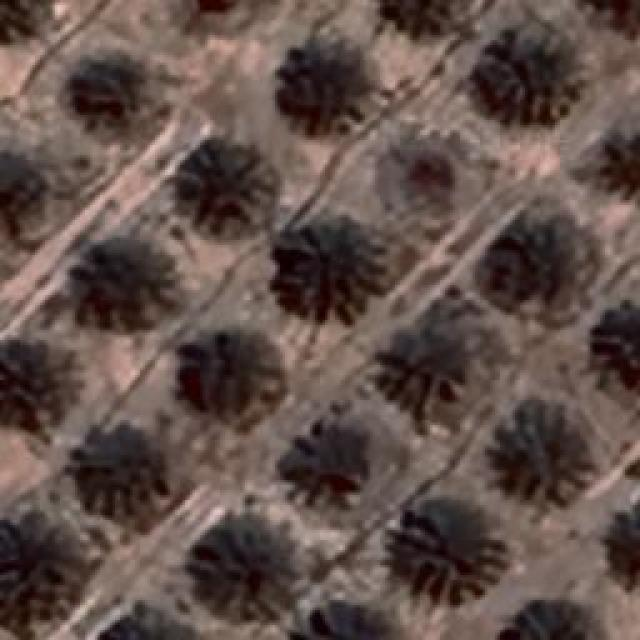PalmTree: (24, 21, 616, 346), (488, 400, 590, 510), (472, 25, 580, 125), (285, 220, 385, 320), (400, 512, 502, 606), (190, 522, 292, 612), (188, 328, 282, 422), (484, 208, 576, 304), (286, 425, 382, 513), (405, 315, 493, 410), (0, 518, 78, 622), (278, 39, 372, 122), (186, 140, 274, 228), (72, 432, 160, 520), (61, 37, 149, 125), (91, 250, 161, 332), (492, 595, 600, 635), (0, 344, 55, 418), (0, 148, 42, 242), (378, 0, 474, 35), (92, 605, 188, 640), (283, 605, 378, 640), (592, 132, 640, 196), (607, 501, 640, 592), (168, 0, 245, 32), (583, 0, 640, 35)
